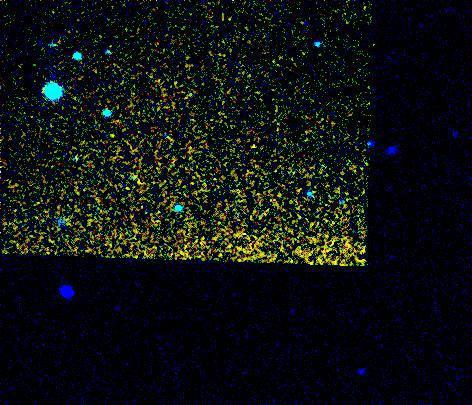star: (97, 119, 127, 149)
